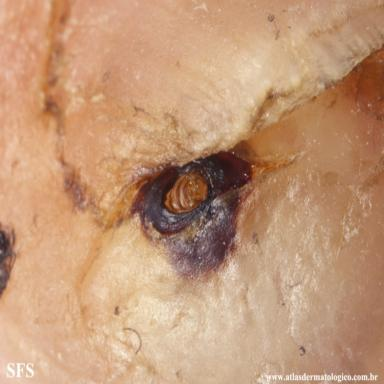Tungiasis: (77, 125, 377, 384), (0, 224, 15, 294)
